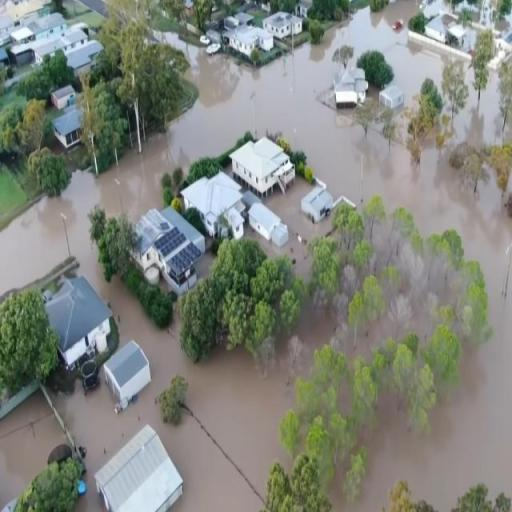flood: (0, 0, 512, 512), (0, 394, 64, 506)
house: (25, 268, 120, 382), (94, 419, 188, 512), (123, 205, 207, 293), (182, 172, 246, 243), (100, 337, 154, 412), (230, 142, 292, 198), (30, 22, 92, 56), (248, 204, 292, 250), (46, 104, 88, 150), (298, 178, 337, 226), (231, 21, 272, 66), (62, 39, 103, 83), (263, 8, 305, 49), (337, 62, 367, 111), (424, 12, 458, 46), (8, 23, 34, 66), (380, 83, 405, 110), (201, 28, 221, 56), (294, 0, 314, 21)
